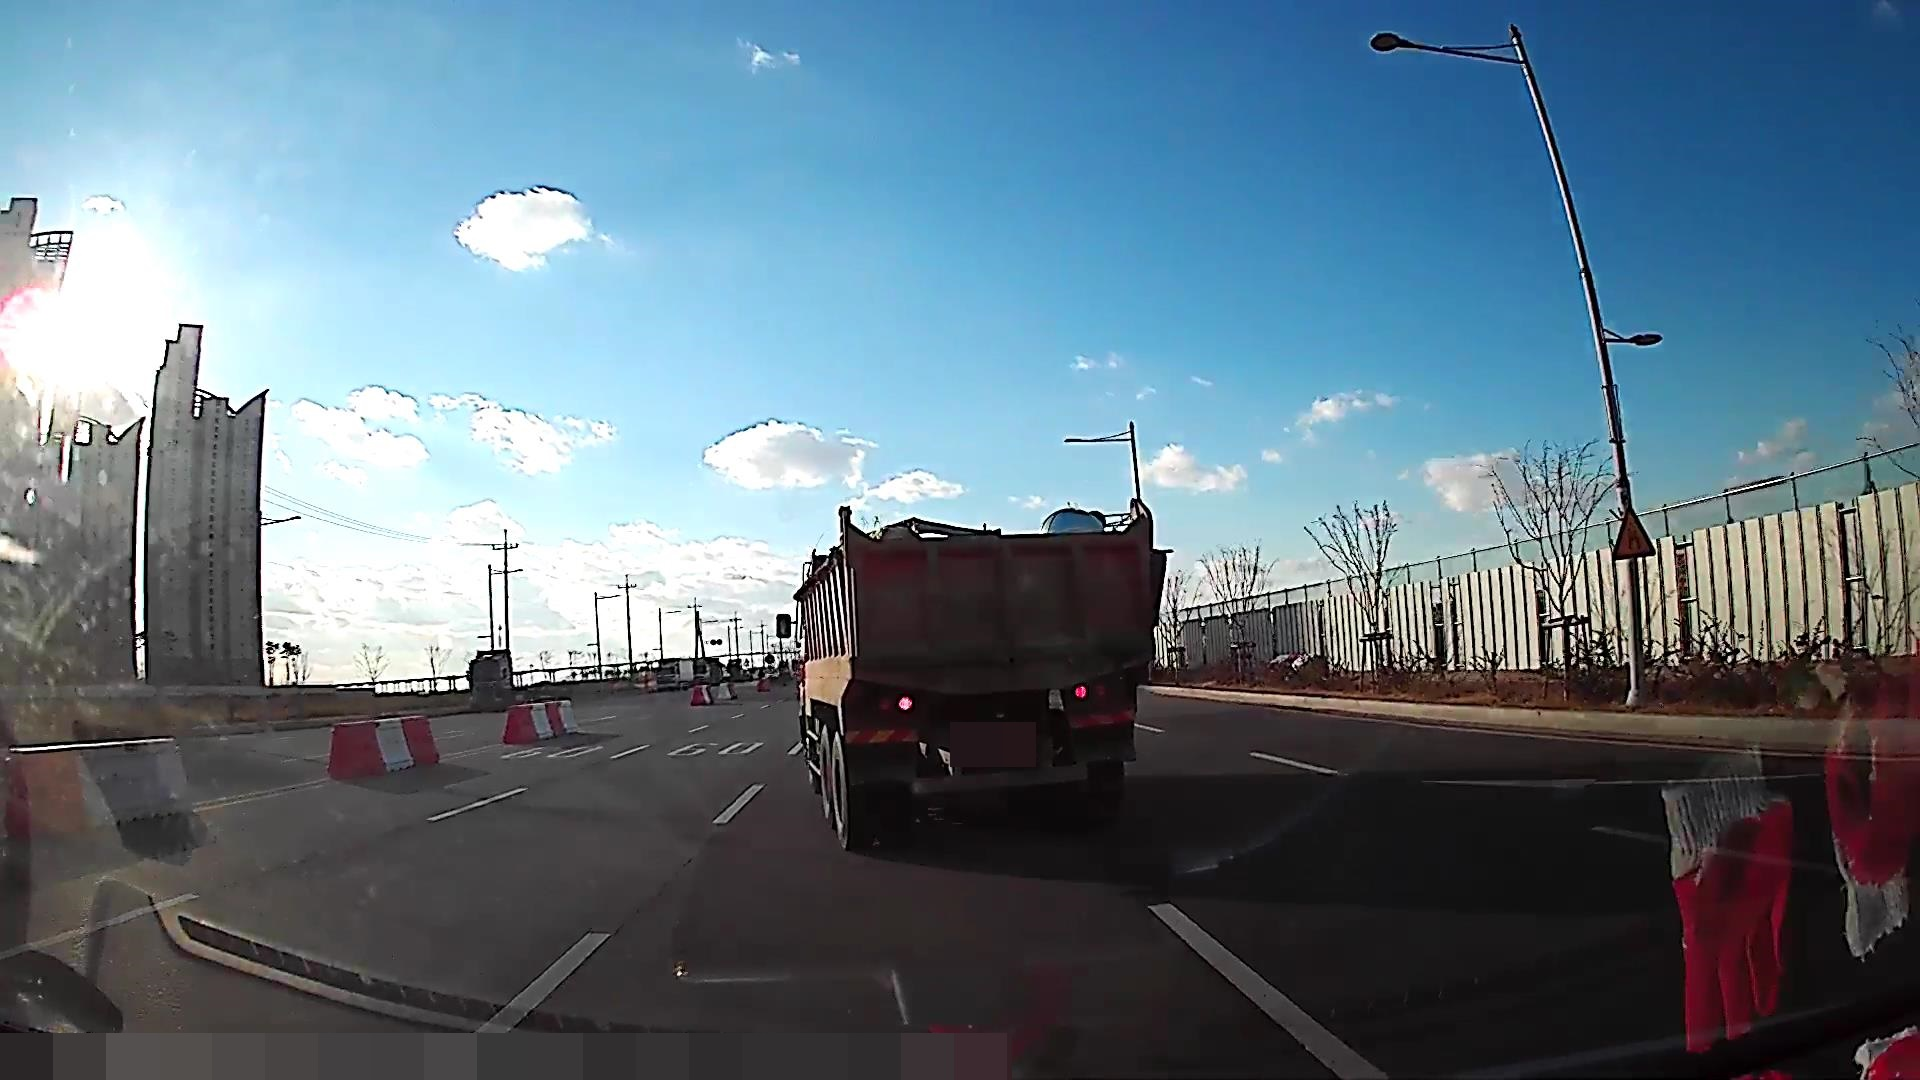불법차량: (775, 498, 1175, 852)
